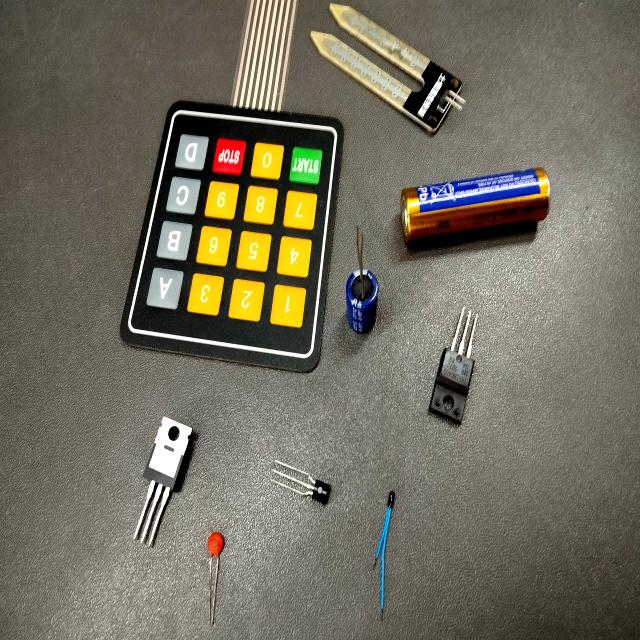capacitor: (346, 272, 378, 334), (208, 532, 225, 556)
